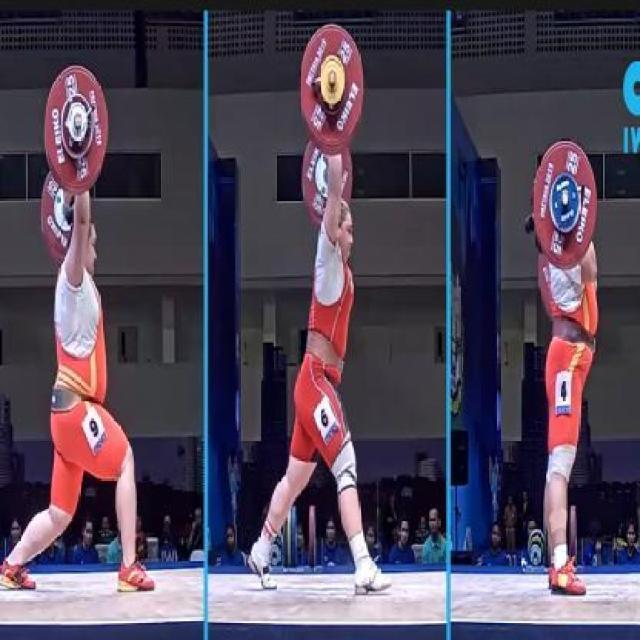barbell: (527, 133, 602, 270), (298, 22, 371, 154), (44, 60, 111, 196)
